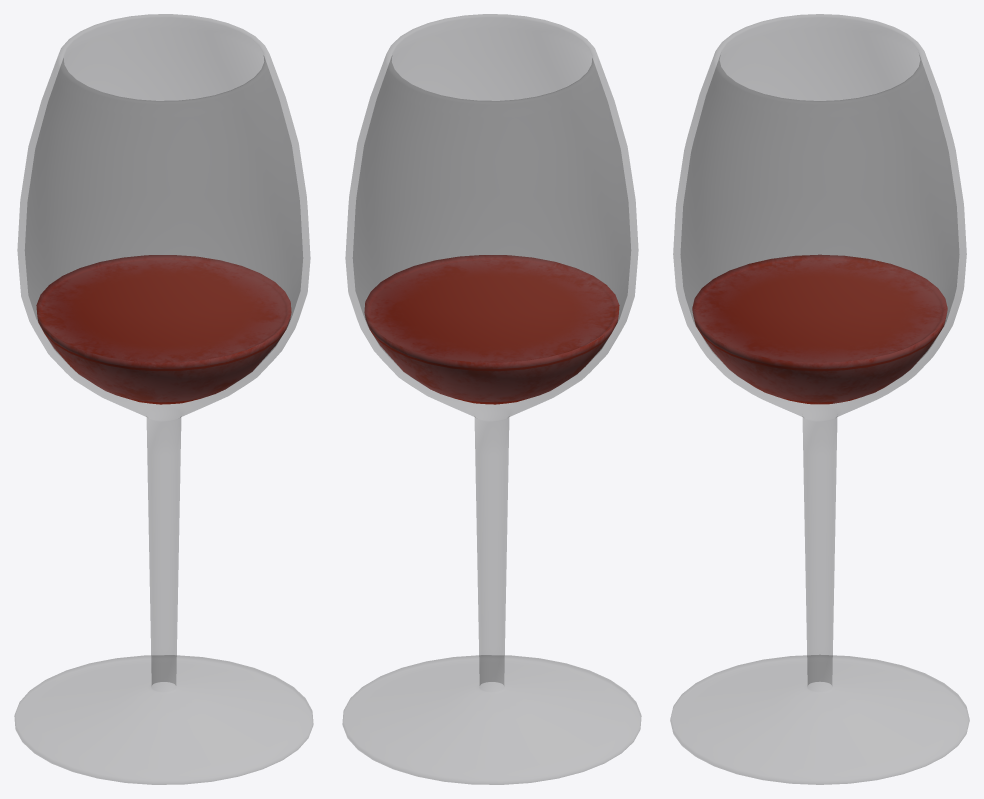
Rendered from wine_glass.glb.
3 views of the same model, side by side, from view 1: azimuth 30°, elevation 25°; view 2: azimuth 150°, elevation 25°; view 3: azimuth 270°, elevation 25° (orthographic).
Parts seen in each view (by area): view 1: Object_3, Object_2; view 2: Object_3, Object_2; view 3: Object_3, Object_2.
Boxes of the visible parts, x1,y1,x2,y2 form: Object_3: (14, 14, 313, 784); Object_2: (36, 255, 291, 404); Object_3: (342, 14, 641, 784); Object_2: (364, 255, 619, 404); Object_3: (670, 14, 969, 784); Object_2: (692, 254, 947, 404).
Bounding box in the file's own units: 1.96 × 4.8 × 1.96.
2 materials, 2 textured.
